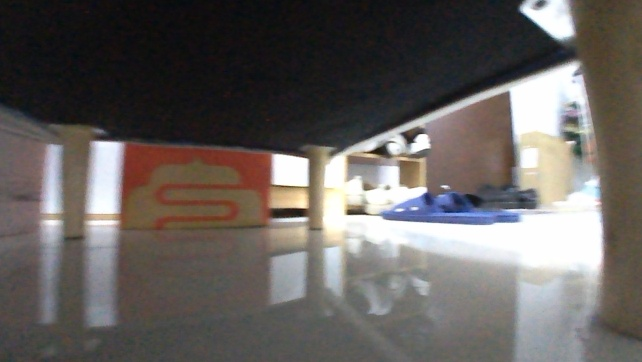door_anno: (417, 89, 522, 199)
slipper: (379, 189, 520, 227)
